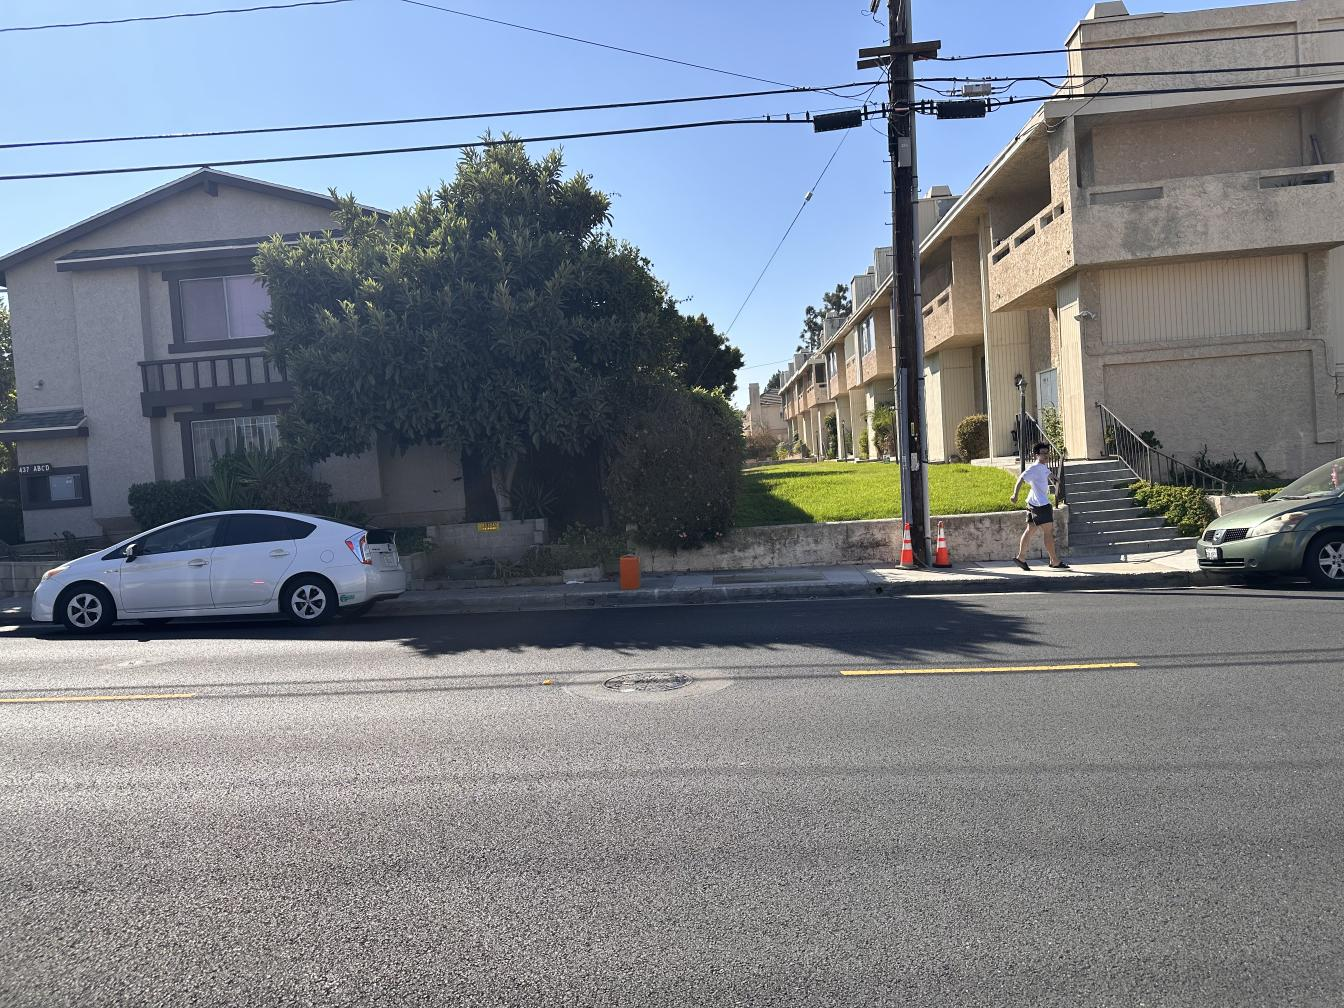curbs-laRr: (796, 576, 1185, 597), (422, 593, 618, 611), (621, 589, 795, 602)
orange box: (619, 555, 640, 591)
